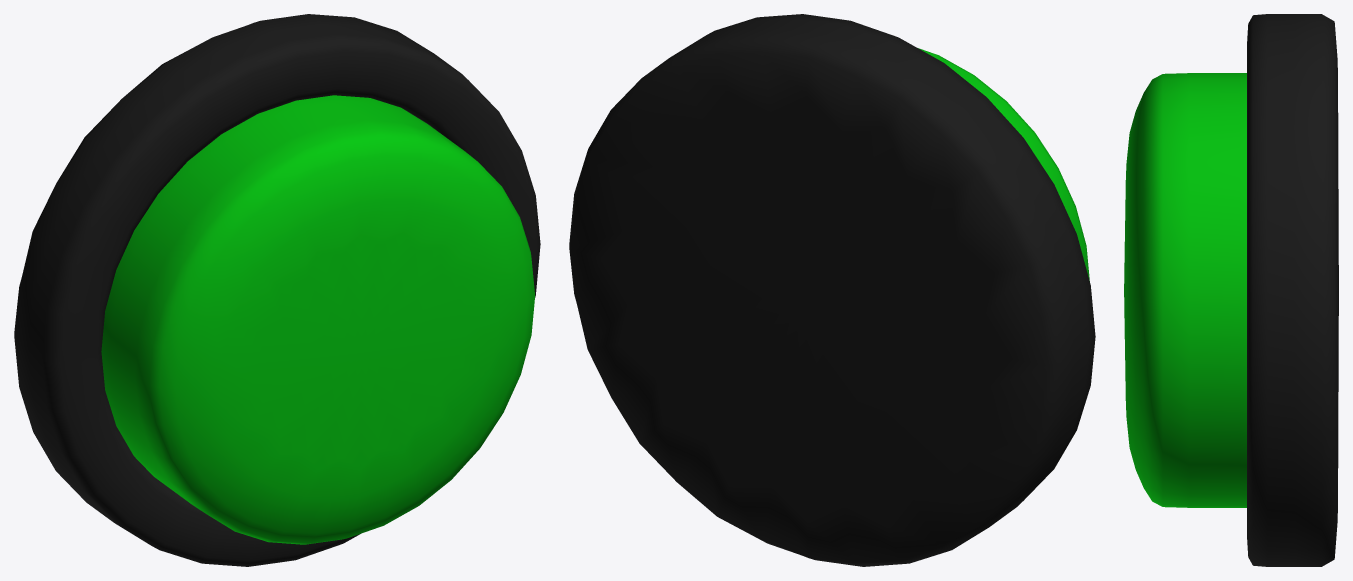
File: green_button_padre.fbx
3 views of the same model, side by side, from view 1: azimuth 30°, elevation 25°; view 2: azimuth 150°, elevation 25°; view 3: azimuth 270°, elevation 25° (orthographic). The views are drawn at different scales.
Parts seen in each view (by area): view 1: green_button_press, green_button_base; view 2: green_button_base, green_button_press; view 3: green_button_press, green_button_base.
Boxes of the visible parts, box(x1,y1,x2,y2) form: green_button_press: box(101, 95, 534, 544); green_button_base: box(14, 14, 540, 566); green_button_base: box(569, 14, 1095, 566); green_button_press: box(918, 48, 1089, 281); green_button_press: box(1124, 73, 1246, 507); green_button_base: box(1247, 14, 1338, 566).
Size of the model in its own units: 179 by 179 by 69.3.
